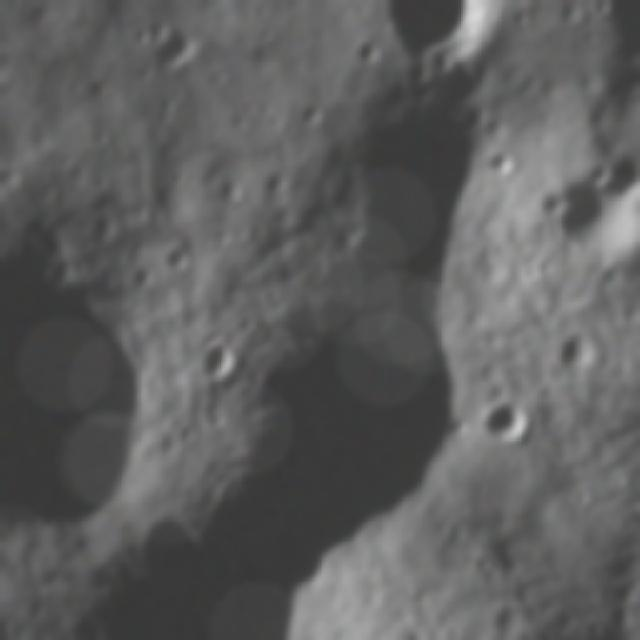crater: (540, 149, 638, 265), (134, 15, 208, 83), (469, 392, 540, 457), (547, 322, 610, 378), (193, 334, 244, 395), (150, 234, 198, 281), (347, 32, 387, 70), (487, 145, 521, 180)
